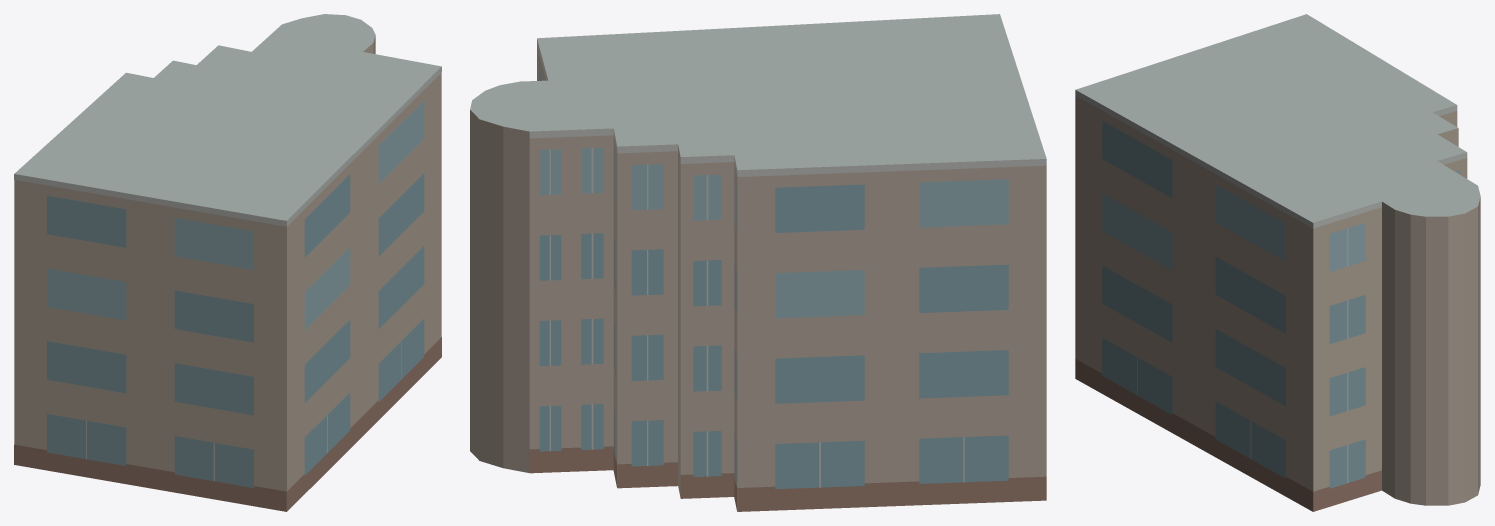
Rendered from survey-upis-32475220.glb.
3 views of the same model, side by side, from view 1: azimuth 30°, elevation 25°; view 2: azimuth 150°, elevation 25°; view 3: azimuth 270°, elevation 25° (orthographic). The views are drawn at different scales.
Parts seen in each view (by area): view 1: survey-upis-32475220.tmp; view 2: survey-upis-32475220.tmp; view 3: survey-upis-32475220.tmp.
Part boxes in pixels (x1,y1,x2,y2): survey-upis-32475220.tmp: (14,14,441,511); survey-upis-32475220.tmp: (470,14,1046,511); survey-upis-32475220.tmp: (1075,14,1480,511).
Bounding box in the file's own units: 18.92 × 12.2 × 15.51.
